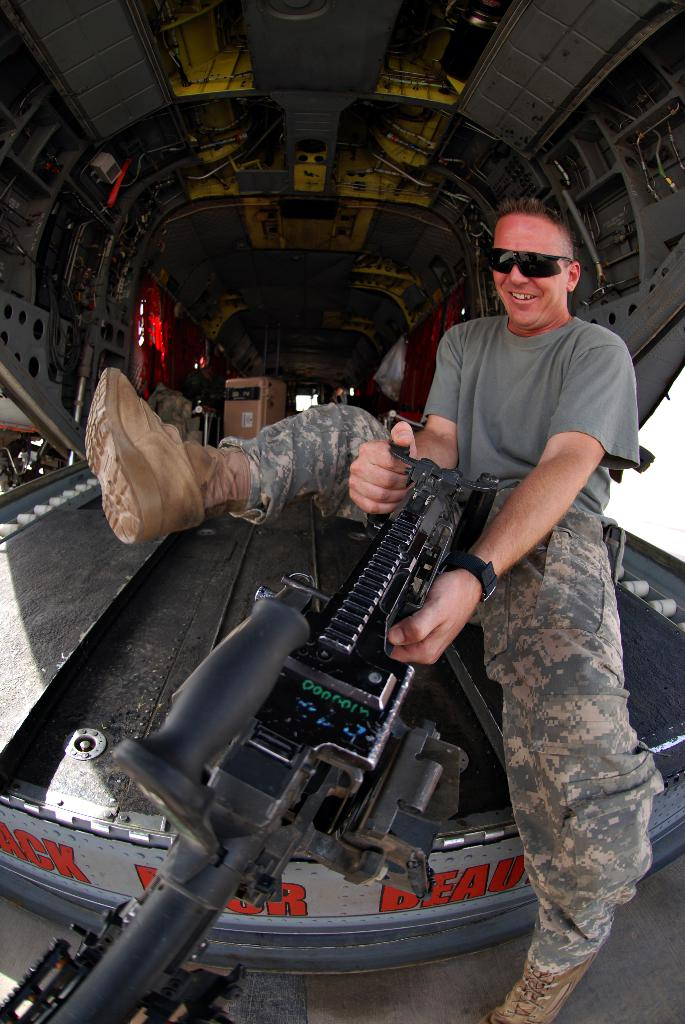Person: (87, 193, 651, 1024)
